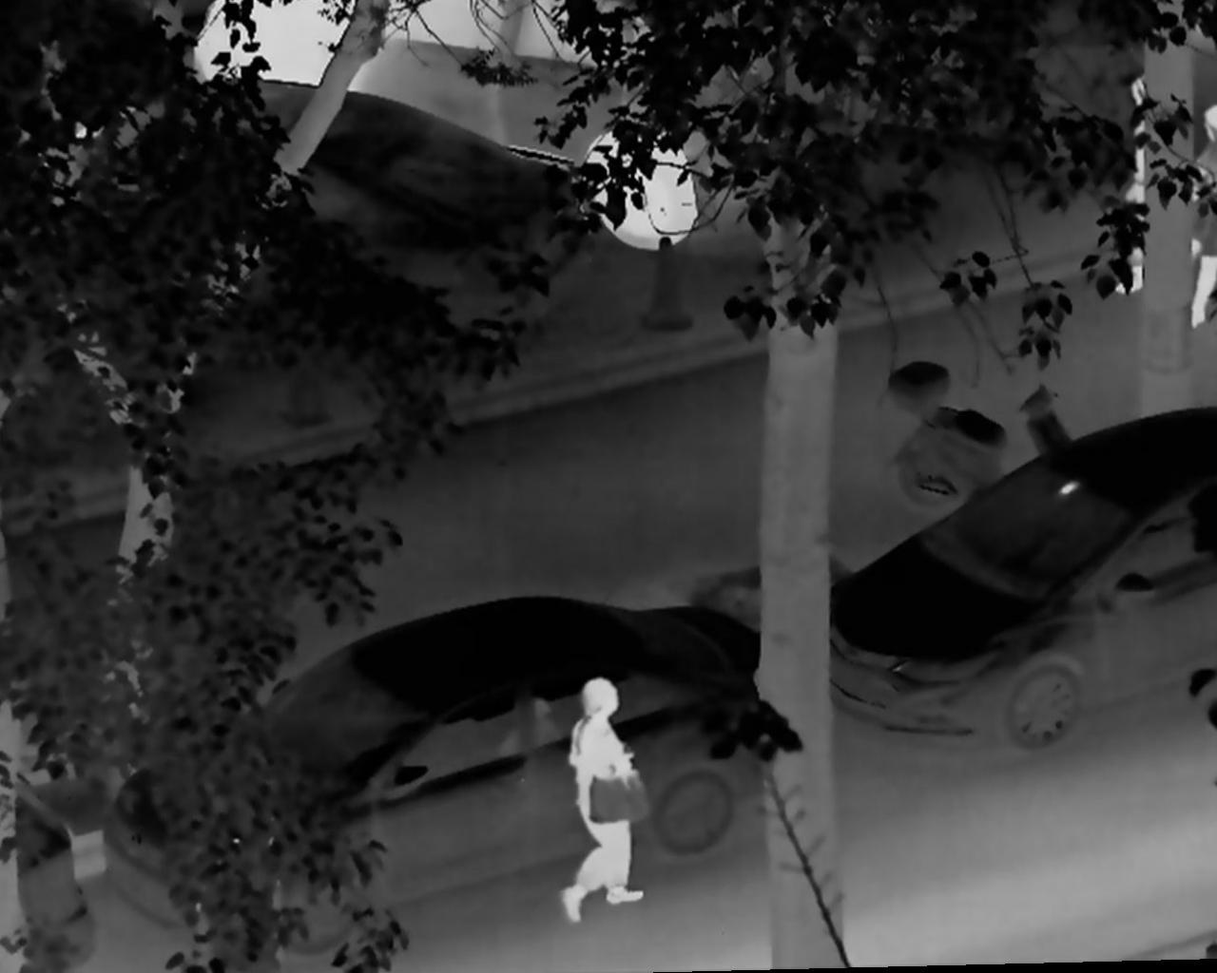person: (549, 673, 651, 935), (1108, 68, 1203, 294), (1177, 107, 1217, 334)
